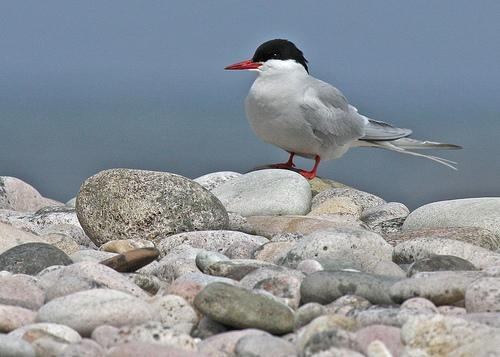bird: (218, 37, 465, 182)
